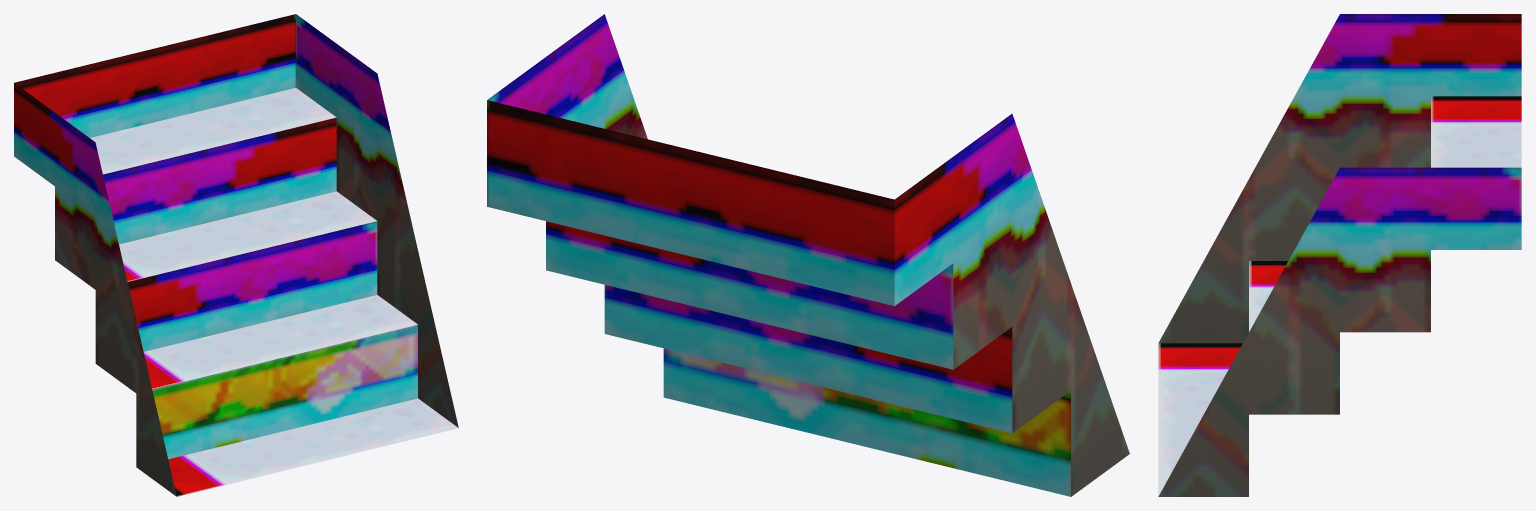
File: arch_winter_stairs_wallsAll.FBX
3 renders of one model, left to right at view 1: azimuth 30°, elevation 25°; view 2: azimuth 150°, elevation 25°; view 3: azimuth 270°, elevation 25°, orthographic. The views are drawn at different scales.
Visible parts, largest first — view 1: arch_winter_stairs_wallsAll; view 2: arch_winter_stairs_wallsAll; view 3: arch_winter_stairs_wallsAll.
Part boxes in pixels (<box>): arch_winter_stairs_wallsAll: <box>14,14,458,496</box>; arch_winter_stairs_wallsAll: <box>487,14,1129,496</box>; arch_winter_stairs_wallsAll: <box>1158,14,1521,496</box>.
Size of the model in its own units: 2 by 2 by 2.
1 material, 1 textured.
